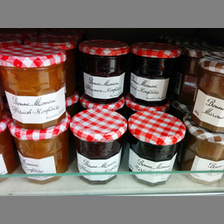jam: (1, 45, 67, 130), (127, 110, 187, 186), (70, 108, 127, 185), (8, 117, 69, 184), (129, 36, 181, 105), (79, 38, 129, 102)
